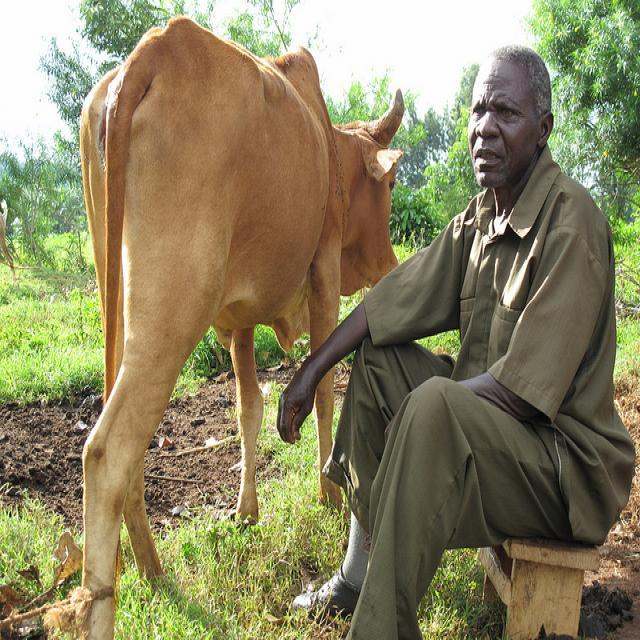cow: (76, 15, 404, 637)
